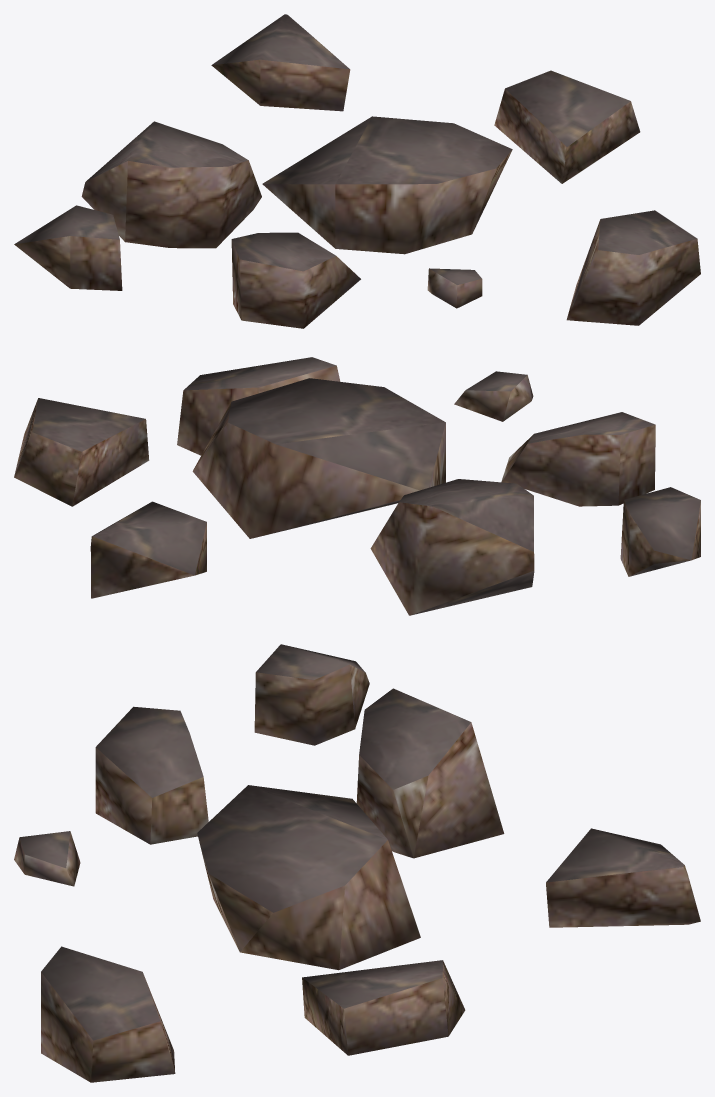
The model's file is mx_xiaoshitou.FBX.
3 views of the same model, one above another, from view 1: azimuth 30°, elevation 25°; view 2: azimuth 150°, elevation 25°; view 3: azimuth 270°, elevation 25° (orthographic). The views are drawn at different scales.
Visible parts, largest first — view 1: mx_xiaoshitou, Box001_Part_2; view 2: mx_xiaoshitou, Box001_Part_2; view 3: mx_xiaoshitou, Box001_Part_2.
Boxes of the visible parts, x1,y1,x2,y2 form: mx_xiaoshitou: (14,14,640,328); Box001_Part_2: (566,210,700,325); mx_xiaoshitou: (14,371,700,615); Box001_Part_2: (177,357,340,455); mx_xiaoshitou: (14,644,700,1055); Box001_Part_2: (41,946,175,1082).
Size of the model in its own units: 63.29 by 13.69 by 52.29.
